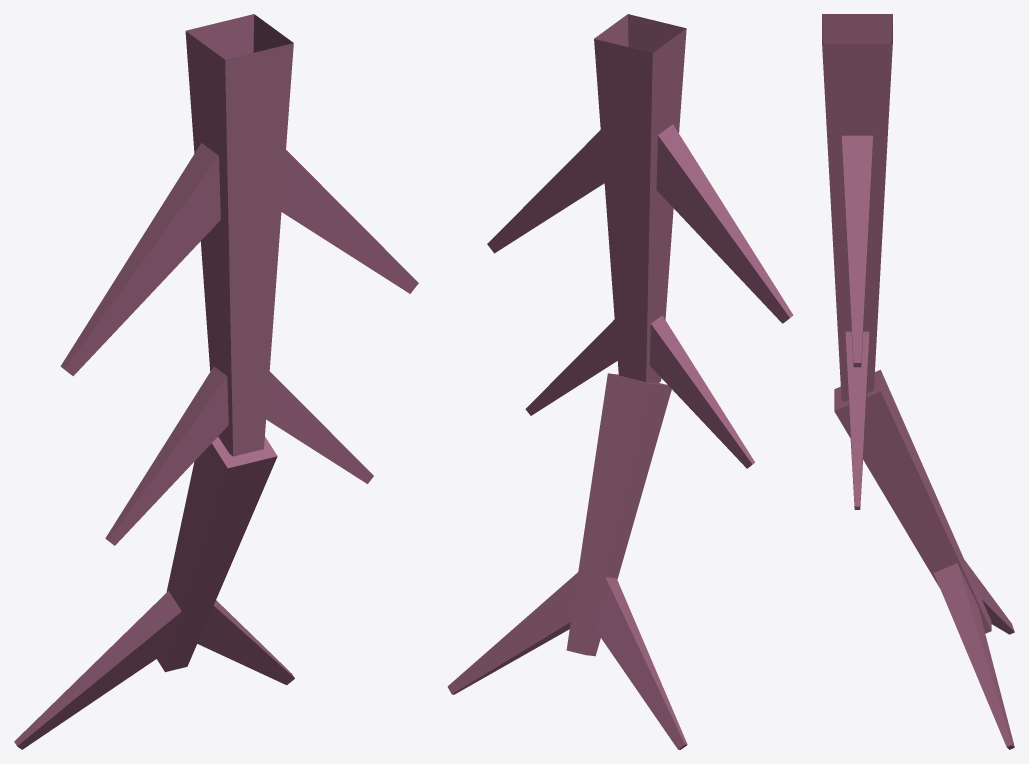
The model's file is eye_balloon_tentacle.glb.
3 views of the same model, side by side, from view 1: azimuth 30°, elevation 25°; view 2: azimuth 150°, elevation 25°; view 3: azimuth 270°, elevation 25° (orthographic). The views are drawn at different scales.
Visible parts, largest first — view 1: Tentacle, TentacleSegment, TentacleWiggler.003, TentacleWiggler.005, TentacleWiggler.004, TentacleWiggler, TentacleWiggler.001, TentacleWiggler.002; view 2: Tentacle, TentacleSegment, TentacleWiggler.003, TentacleWiggler.005, TentacleWiggler.004, TentacleWiggler, TentacleWiggler.002, TentacleWiggler.001; view 3: Tentacle, TentacleSegment, TentacleWiggler, TentacleWiggler.002, TentacleWiggler.001, TentacleWiggler.005.
Part boxes in pixels (box(x1,y1,x2,y2)): Tentacle: box(185, 14, 293, 456); TentacleSegment: box(157, 437, 277, 672); TentacleWiggler.003: box(60, 143, 220, 376); TentacleWiggler.005: box(14, 591, 181, 749); TentacleWiggler.004: box(105, 366, 228, 545); TentacleWiggler: box(281, 150, 418, 293); TentacleWiggler.001: box(266, 371, 373, 483); TentacleWiggler.002: box(175, 600, 294, 685); Tentacle: box(594, 14, 686, 383); TentacleSegment: box(566, 373, 671, 656); TentacleWiggler.003: box(656, 124, 793, 323); TentacleWiggler.005: box(593, 577, 687, 749); TentacleWiggler.004: box(649, 315, 754, 468); TentacleWiggler: box(487, 130, 604, 253); TentacleWiggler.002: box(447, 572, 598, 694); TentacleWiggler.001: box(525, 319, 617, 415); Tentacle: box(822, 14, 892, 401); TentacleSegment: box(834, 370, 991, 633); TentacleWiggler: box(841, 135, 872, 367); TentacleWiggler.002: box(934, 563, 1014, 749); TentacleWiggler.001: box(845, 331, 869, 509); TentacleWiggler.005: box(964, 560, 1014, 634).
Bounding box in the file's own units: 2.24 × 4.49 × 1.18.
